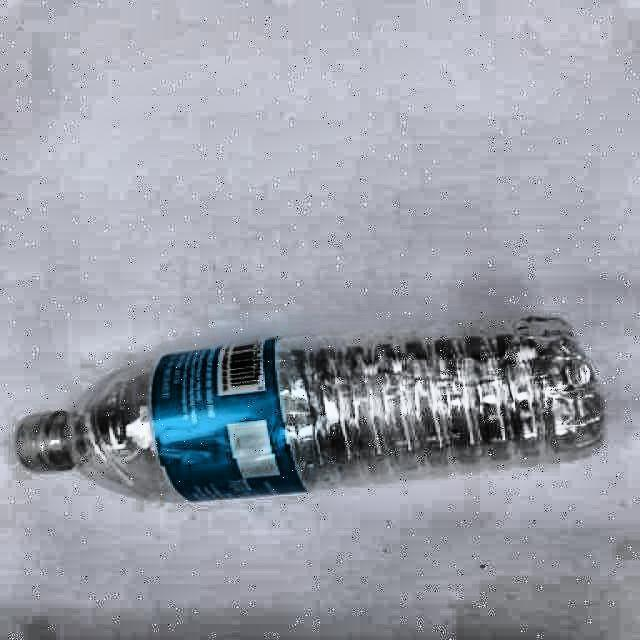plastic: (16, 316, 604, 500)
